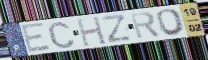C: (46, 20, 77, 50)
E: (19, 22, 53, 55)
H: (75, 16, 108, 48)
O: (155, 8, 188, 37)
R: (129, 10, 163, 41)
Z: (100, 13, 133, 44)
